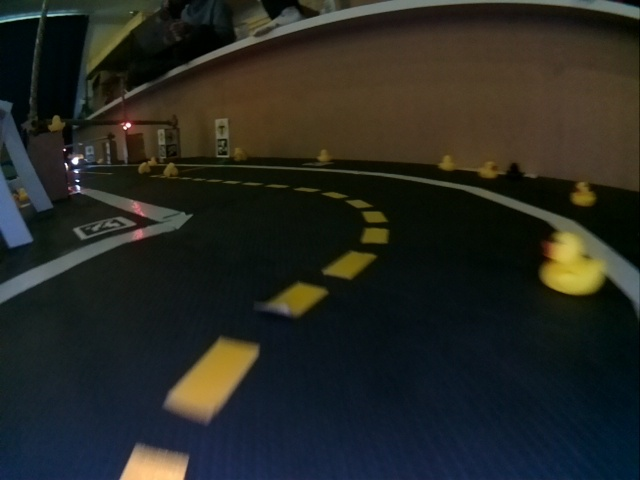Duckie: (538, 235, 605, 295), (572, 183, 596, 204), (478, 162, 498, 177), (50, 116, 64, 131), (165, 163, 179, 176), (439, 157, 453, 168), (317, 150, 331, 161), (235, 148, 246, 160), (139, 163, 150, 173), (18, 189, 27, 199)
Intersection sign: (216, 123, 226, 137), (167, 130, 176, 143)
QR code: (75, 218, 135, 239), (216, 139, 226, 156), (168, 146, 176, 156)
Traffic light: (120, 119, 130, 131)
